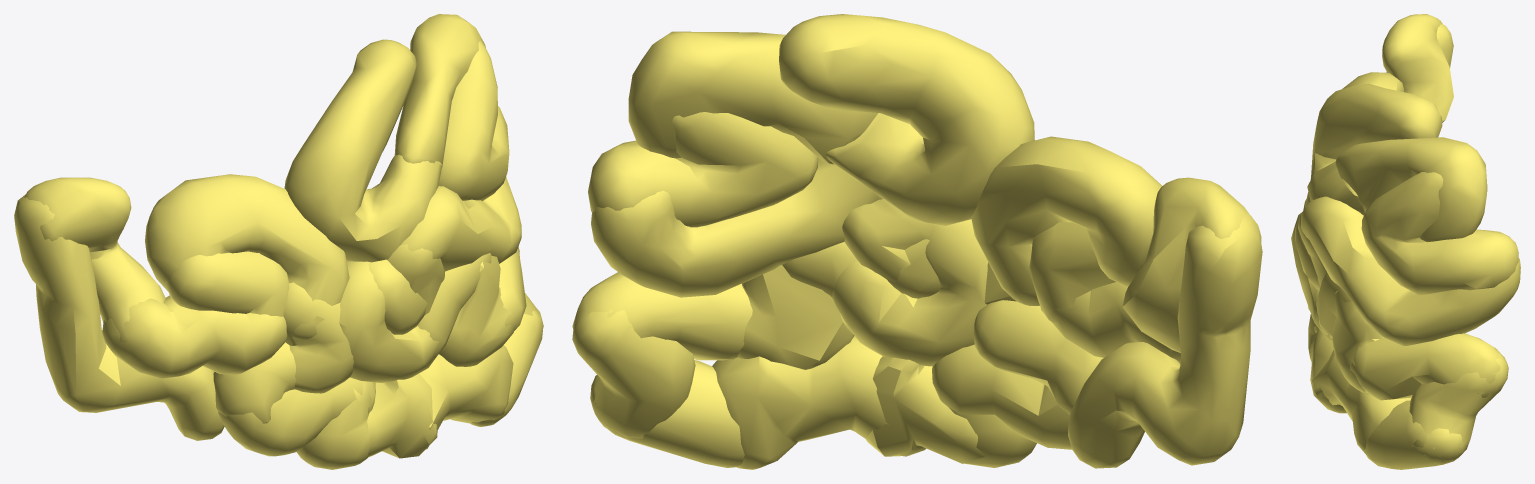
File: jejunum.glb
The picture shows the model from 3 angles, left to right: view 1: azimuth 30°, elevation 25°; view 2: azimuth 150°, elevation 25°; view 3: azimuth 270°, elevation 25°; orthographic projection. The views are drawn at different scales.
Parts seen in each view (by area): view 1: FJ876_BP4611_FMA7207_Jejunum; view 2: FJ876_BP4611_FMA7207_Jejunum; view 3: FJ876_BP4611_FMA7207_Jejunum.
Boxes of the visible parts, x1=… form: FJ876_BP4611_FMA7207_Jejunum: x1=14, y1=14, x2=543, y2=469; FJ876_BP4611_FMA7207_Jejunum: x1=572, y1=14, x2=1262, y2=469; FJ876_BP4611_FMA7207_Jejunum: x1=1291, y1=14, x2=1520, y2=469.
Size of the model in its own units: 0.4974 by 0.3518 by 0.22.
